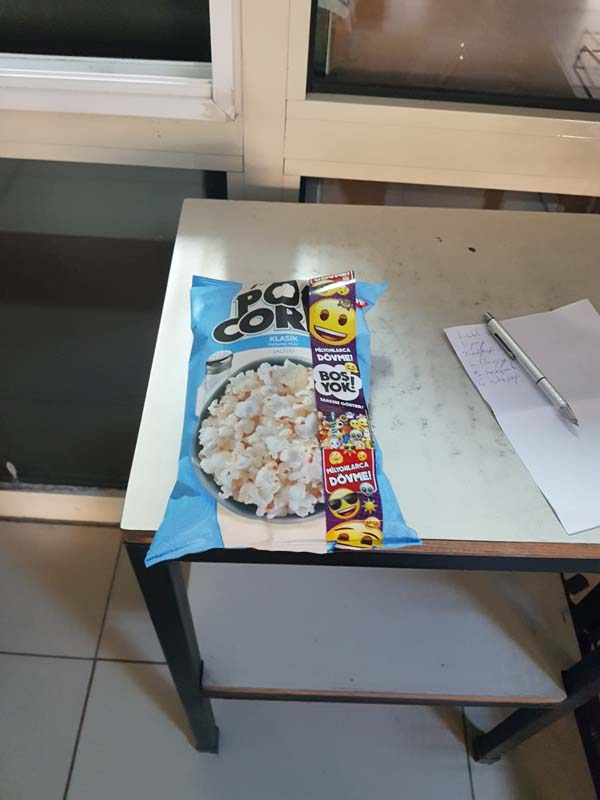popcorn: (127, 261, 430, 581)
